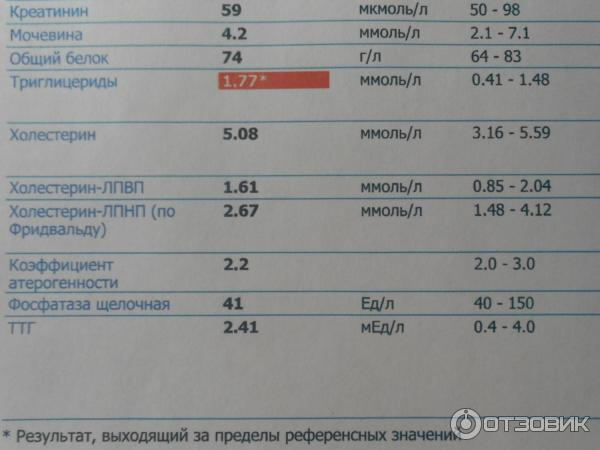column: (6, 0, 176, 419), (469, 0, 552, 419), (358, 0, 428, 419), (220, 0, 260, 419)
